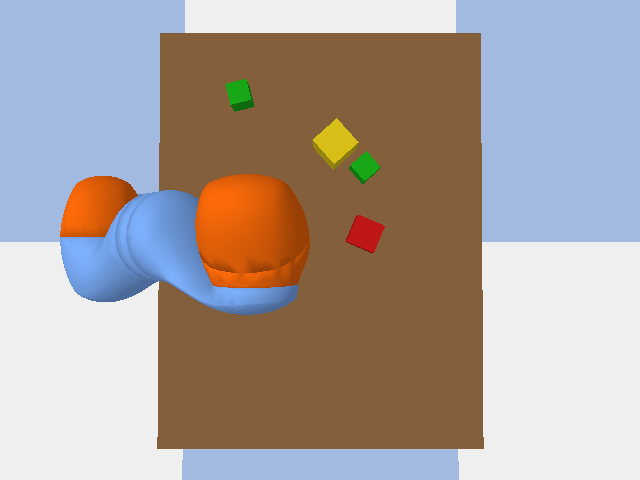green_obj: (349, 151, 380, 183), (225, 79, 254, 111)
red_obj: (345, 215, 384, 252)
yellow_obj: (312, 118, 358, 169)
